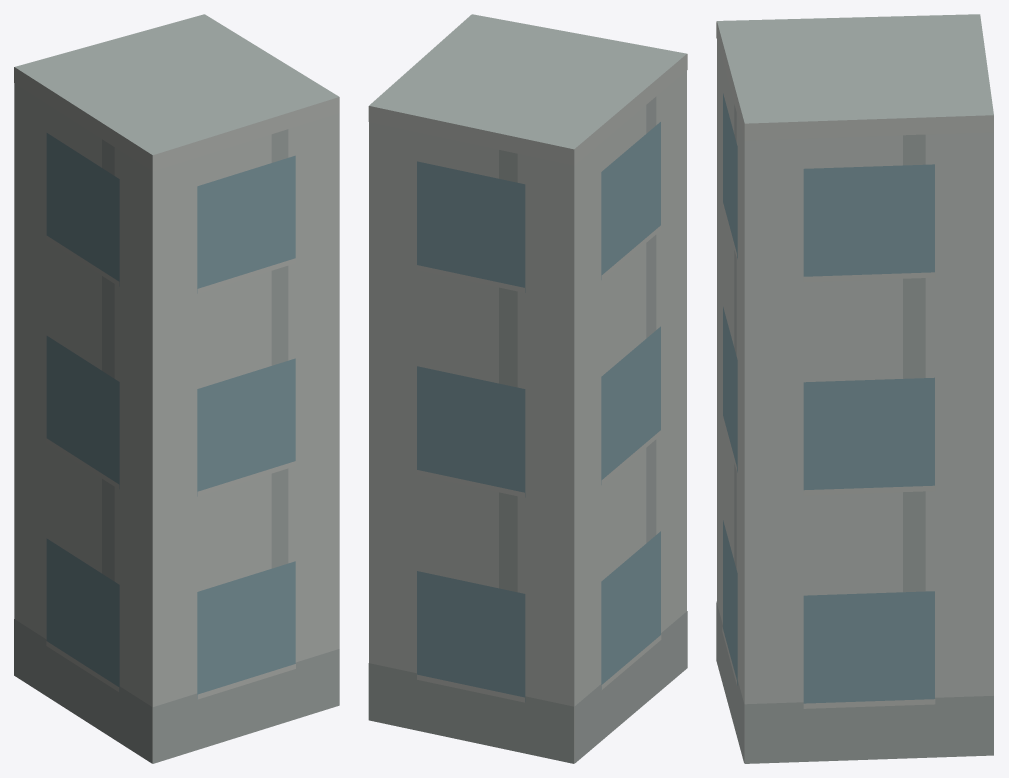
File: survey-upis-32634298.glb
3 views of the same model, side by side, from view 1: azimuth 30°, elevation 25°; view 2: azimuth 150°, elevation 25°; view 3: azimuth 270°, elevation 25° (orthographic). The views are drawn at different scales.
Visible parts, largest first — view 1: survey-upis-32634298.tmp; view 2: survey-upis-32634298.tmp; view 3: survey-upis-32634298.tmp.
Boxes of the visible parts, x1,y1,x2,y2 form: survey-upis-32634298.tmp: (14, 14, 339, 763); survey-upis-32634298.tmp: (368, 14, 687, 763); survey-upis-32634298.tmp: (716, 14, 993, 763).
Size of the model in its own units: 3.37 by 9.15 by 3.6.
